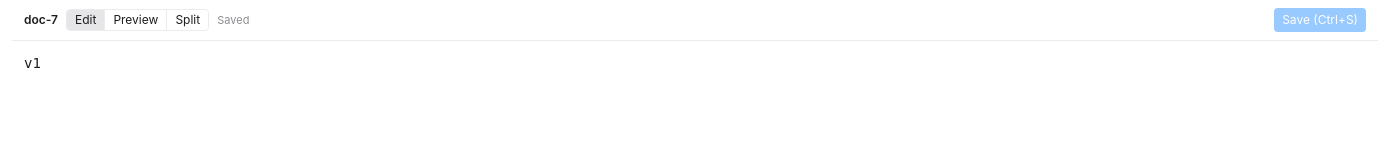
Test: MarkdownEditor Component › reports a failed restart flush and keeps the unsaved source
Replace the text in the text box with "v2": (695, 73) [12, 41, 1378, 105]
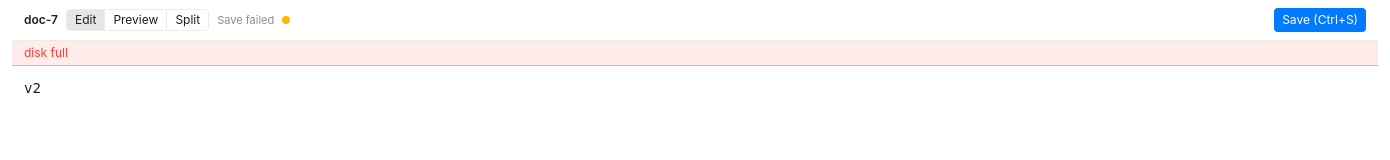
Now the text "disk full" is shown, box [12, 41, 1378, 66]
